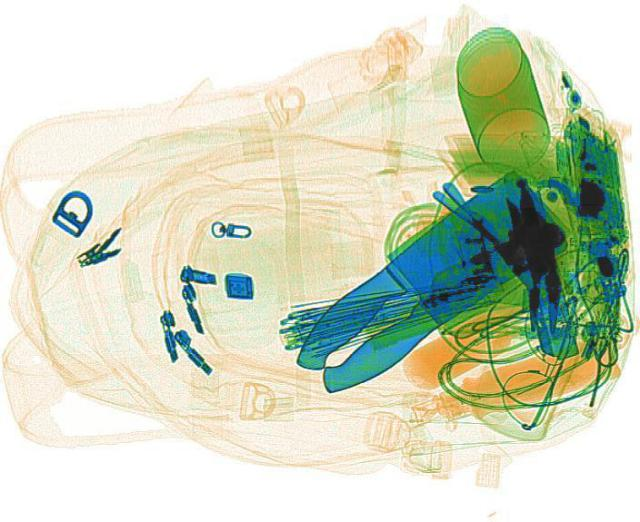Knife: (259, 165, 586, 399), (268, 167, 590, 402)
